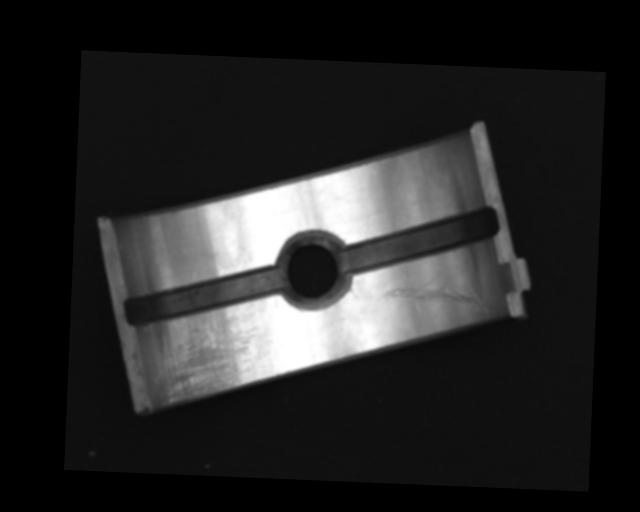gap: (339, 200, 500, 282), (121, 263, 286, 332)
hole: (276, 231, 350, 309)
nick: (381, 268, 493, 316)
scratch: (151, 308, 256, 412)
